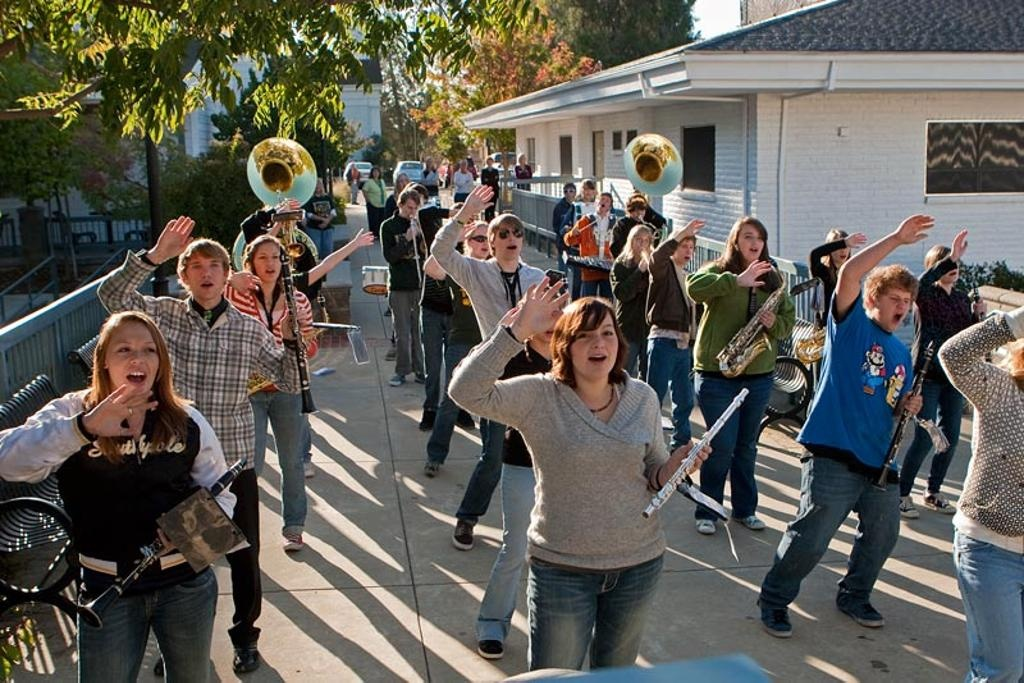human_face: (105, 322, 159, 398), (570, 310, 618, 378), (185, 250, 223, 300), (530, 297, 562, 343), (878, 285, 910, 329), (253, 242, 281, 282), (496, 221, 524, 257), (737, 222, 763, 260), (472, 224, 492, 256), (936, 254, 958, 282), (632, 231, 650, 255), (832, 237, 850, 261), (678, 236, 694, 262), (402, 196, 418, 218), (282, 209, 296, 228), (630, 205, 644, 221), (397, 176, 409, 192), (598, 196, 610, 210), (562, 186, 574, 198), (583, 185, 593, 196), (314, 182, 322, 192), (372, 168, 378, 177), (459, 160, 465, 168), (426, 158, 432, 166), (520, 154, 524, 162), (486, 158, 490, 164)
